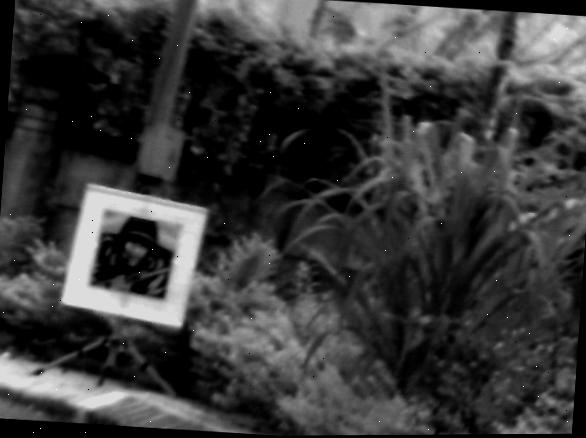bia: (88, 207, 181, 301)
chan: (28, 316, 173, 438)
